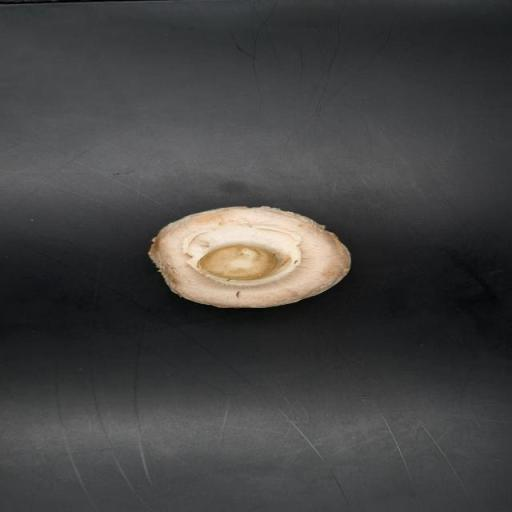Button Mushroom: (147, 207, 352, 309)
